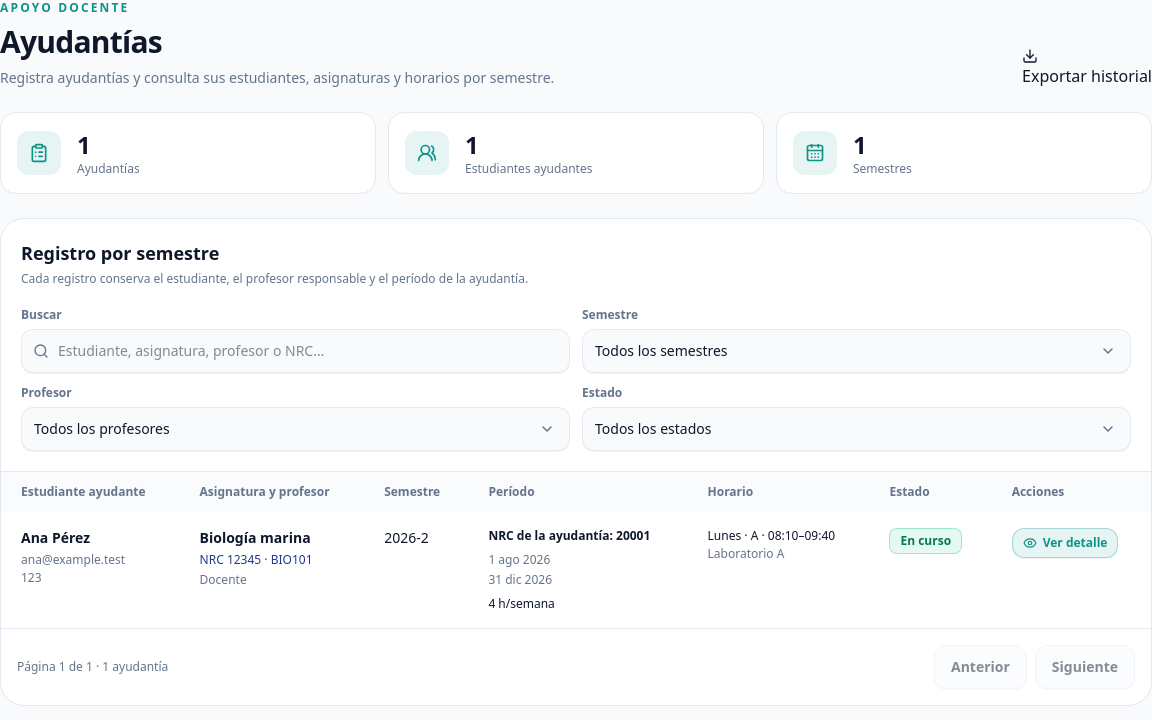
Test: assistantship management › opens detailed history record and closes
Expected: the button "Ana Pérez" is shown, [21, 528, 90, 548]
Click the button "Ver detalle" at (1065, 543), box [1012, 528, 1118, 558]
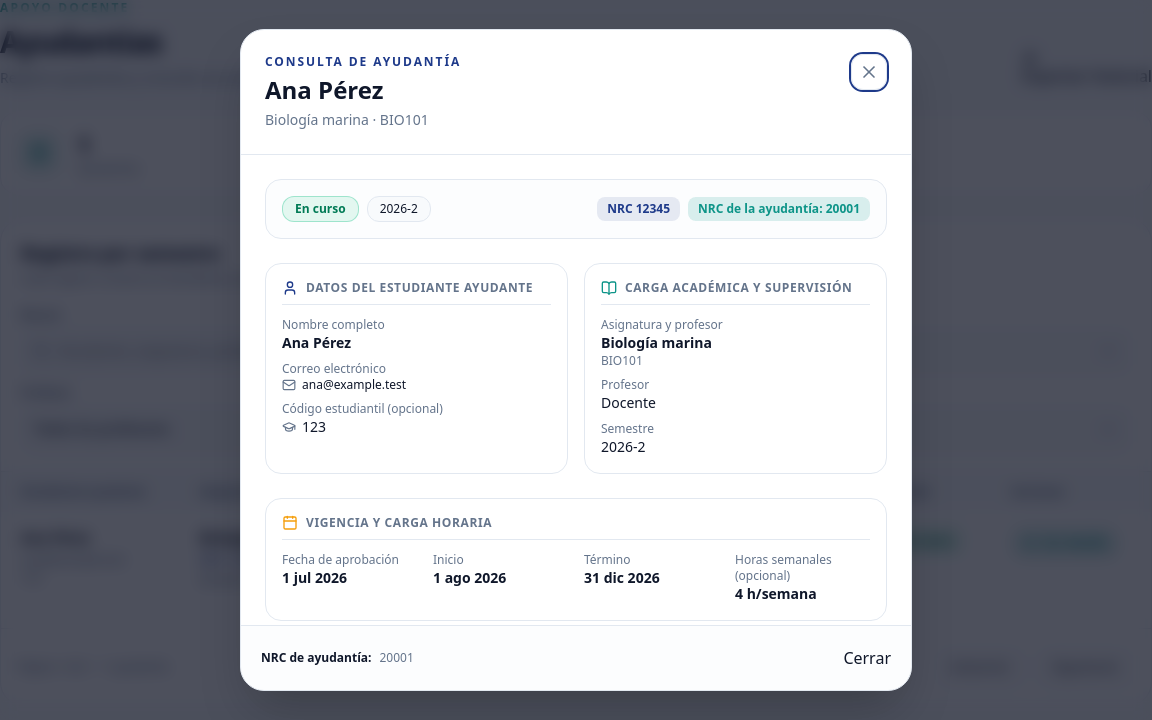
Expected: the text "Consulta de ayudantía" is shown, [265, 53, 461, 70]
Expected: the text "Datos del estudiante ayudante" is shown, [306, 280, 533, 296]
Expected: the text "ana@example.test" is shown, [282, 376, 406, 393]
Click the button "Cerrar" at (867, 658), box [843, 646, 891, 670]
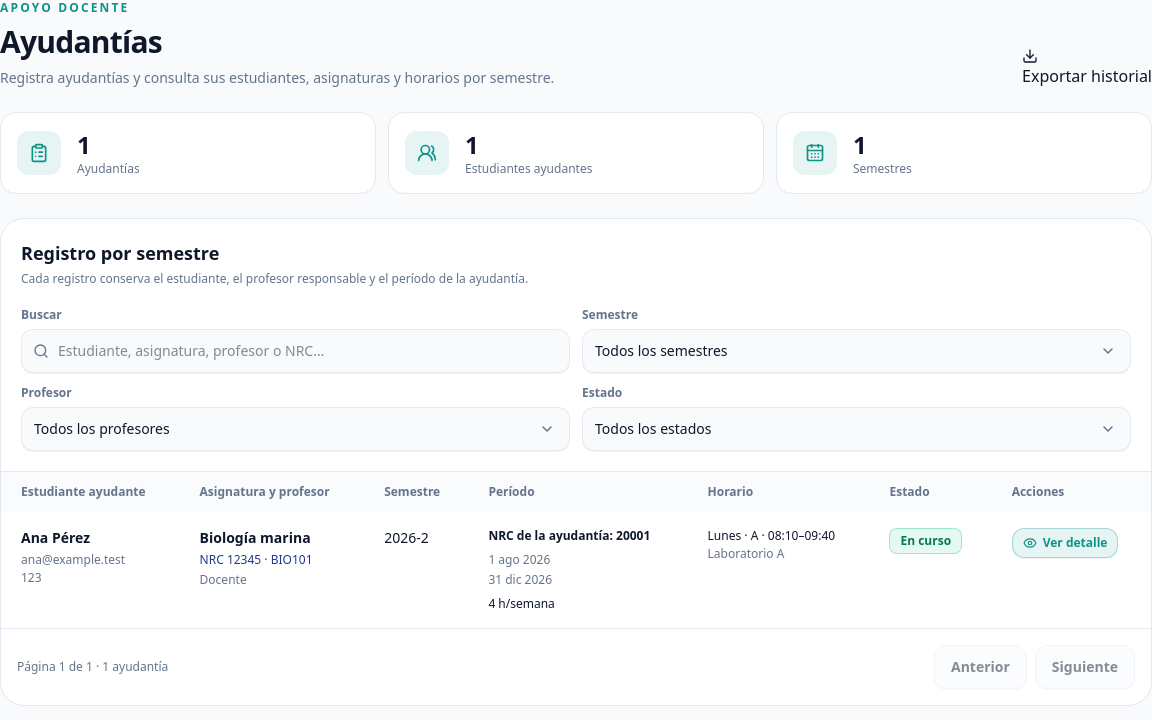
Expected: the text "Consulta de ayudantía" is gone
